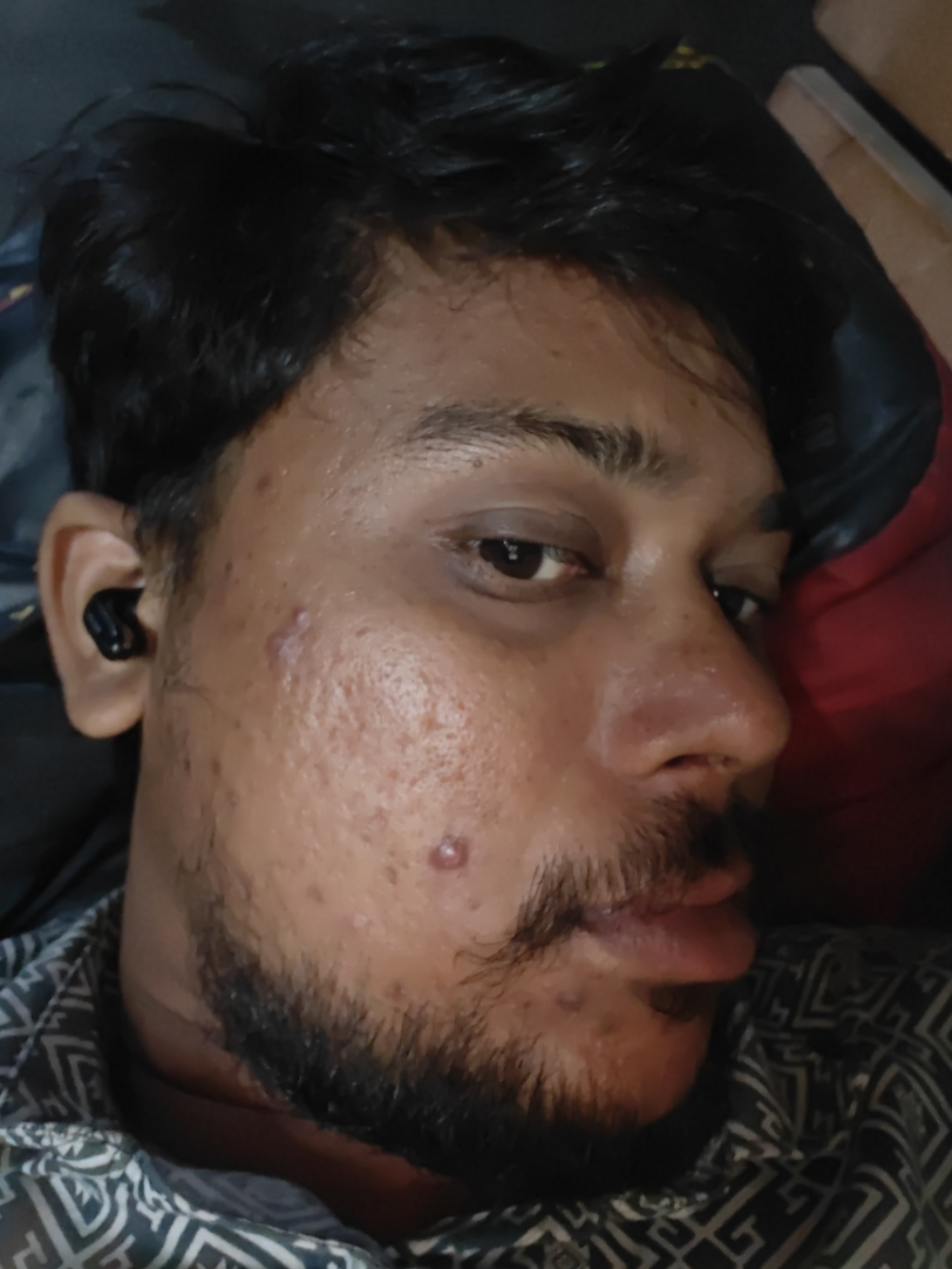closed_comedone: (701, 655, 731, 681)
cyst: (428, 829, 472, 875)
nodule: (261, 630, 301, 671), (284, 600, 321, 630)
